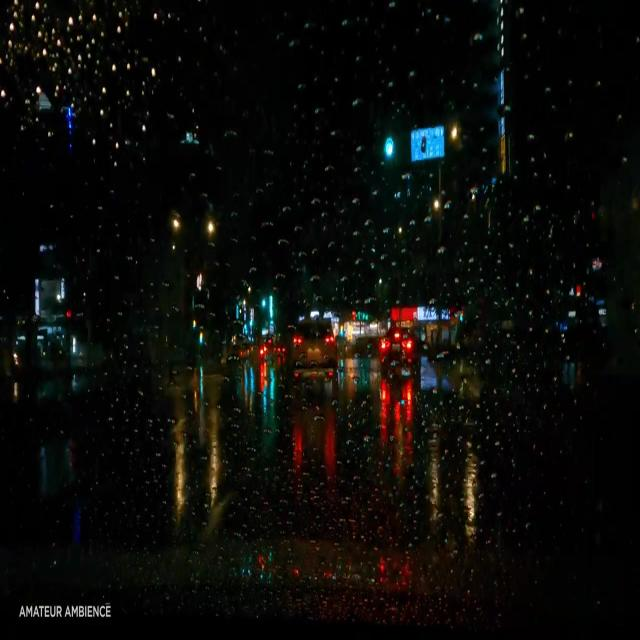Car: (287, 319, 338, 383), (374, 322, 421, 381)
